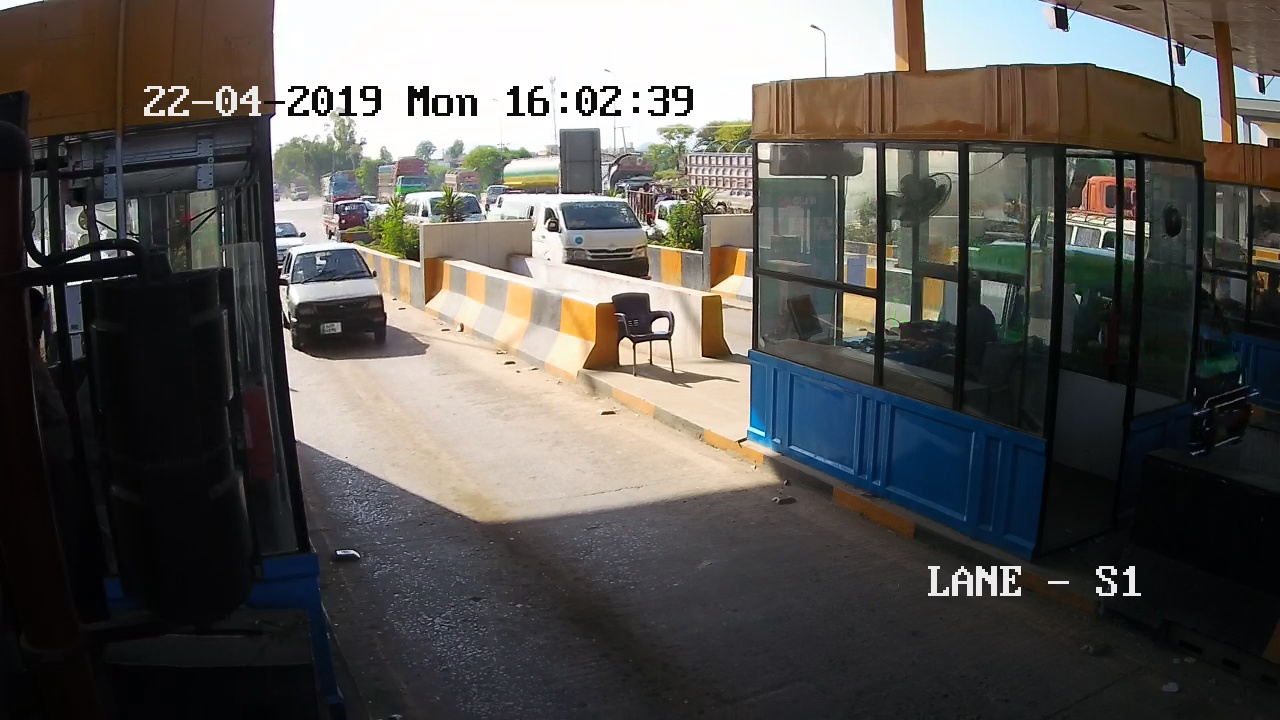car: (271, 248, 401, 374)
